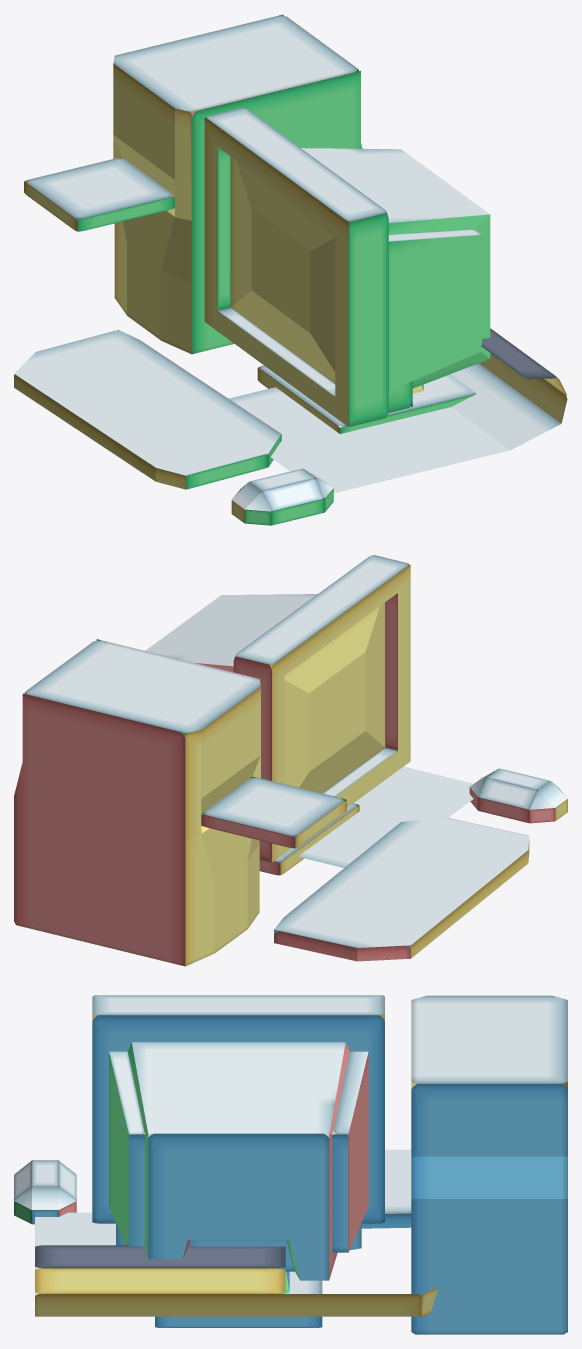
File: flesh-computer.fbx
3 renders of one model, top to bottom at view 1: azimuth 30°, elevation 25°; view 2: azimuth 150°, elevation 25°; view 3: azimuth 270°, elevation 25°, orthographic. The views are drawn at different scales.
Parts seen in each view (by area): view 1: Monitor2, PC, Keyboard2, Wires, beveled_cuboid; view 2: PC, Monitor2, Keyboard2, Wires, beveled_cuboid; view 3: Monitor2, PC, Wires, beveled_cuboid, Keyboard2.
Part boxes in pixels (<box>): Monitor2: <box>204,107,490,433</box>; PC: <box>24,14,362,354</box>; Keyboard2: <box>14,329,281,489</box>; Wires: <box>229,328,567,493</box>; beveled_cuboid: <box>231,468,333,525</box>; PC: <box>14,639,346,966</box>; Monitor2: <box>145,555,410,875</box>; Keyboard2: <box>274,817,529,961</box>; Wires: <box>298,766,473,867</box>; beveled_cuboid: <box>469,768,567,823</box>; Monitor2: <box>92,995,384,1327</box>; PC: <box>411,995,567,1334</box>; Wires: <box>35,1212,438,1316</box>; beveled_cuboid: <box>14,1160,76,1224</box>; Keyboard2: <box>361,1149,411,1228</box>.
Bounding box in the file's own units: 25.17 × 16.56 × 33.12.
Materials: 1 (1 with a texture image).
